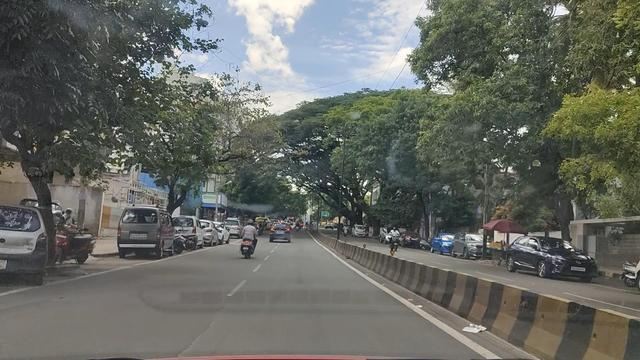LMV: (123, 206, 178, 259), (242, 209, 259, 261)
